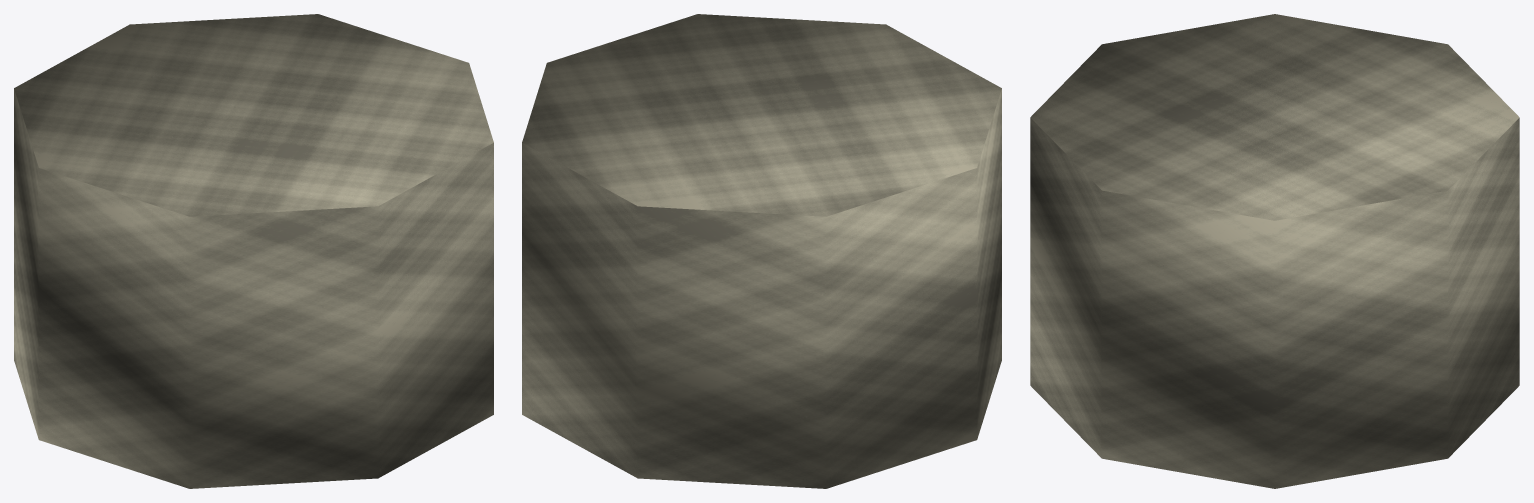
Rendered from vesiastia-pronssi-tormays.glb.
The picture shows the model from 3 angles, left to right: view 1: azimuth 30°, elevation 25°; view 2: azimuth 150°, elevation 25°; view 3: azimuth 270°, elevation 25°; orthographic projection.
Parts seen in each view (by area): view 1: tormays; view 2: tormays; view 3: tormays.
Part boxes in pixels (x1,y1,x2,y2): tormays: [14, 14, 493, 488]; tormays: [522, 14, 1001, 488]; tormays: [1030, 14, 1519, 488].
Size of the model in its own units: 1.82 by 1.1 by 1.82.
Materials: 1 (1 with a texture image).
